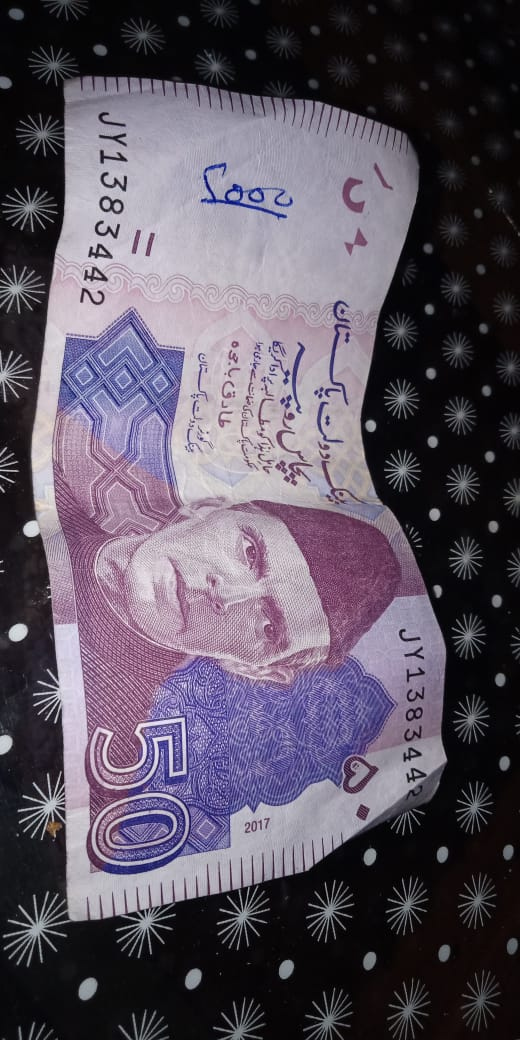50 rupee: (6, 51, 459, 978)
